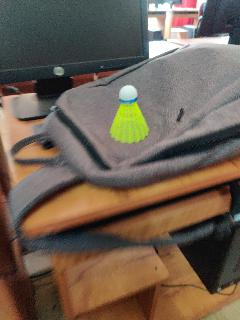shuttlecock: (107, 84, 148, 142)
